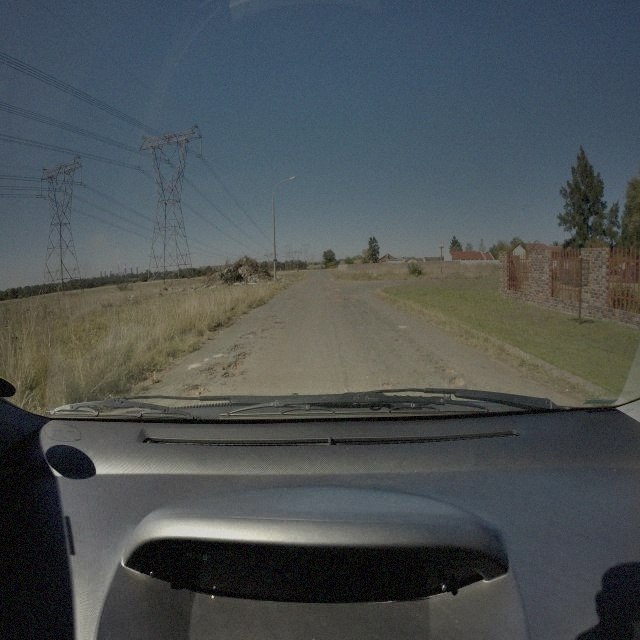pothole: (222, 350, 250, 371), (181, 380, 205, 398), (447, 374, 465, 388), (205, 356, 219, 371), (443, 364, 458, 374), (382, 381, 392, 392)
